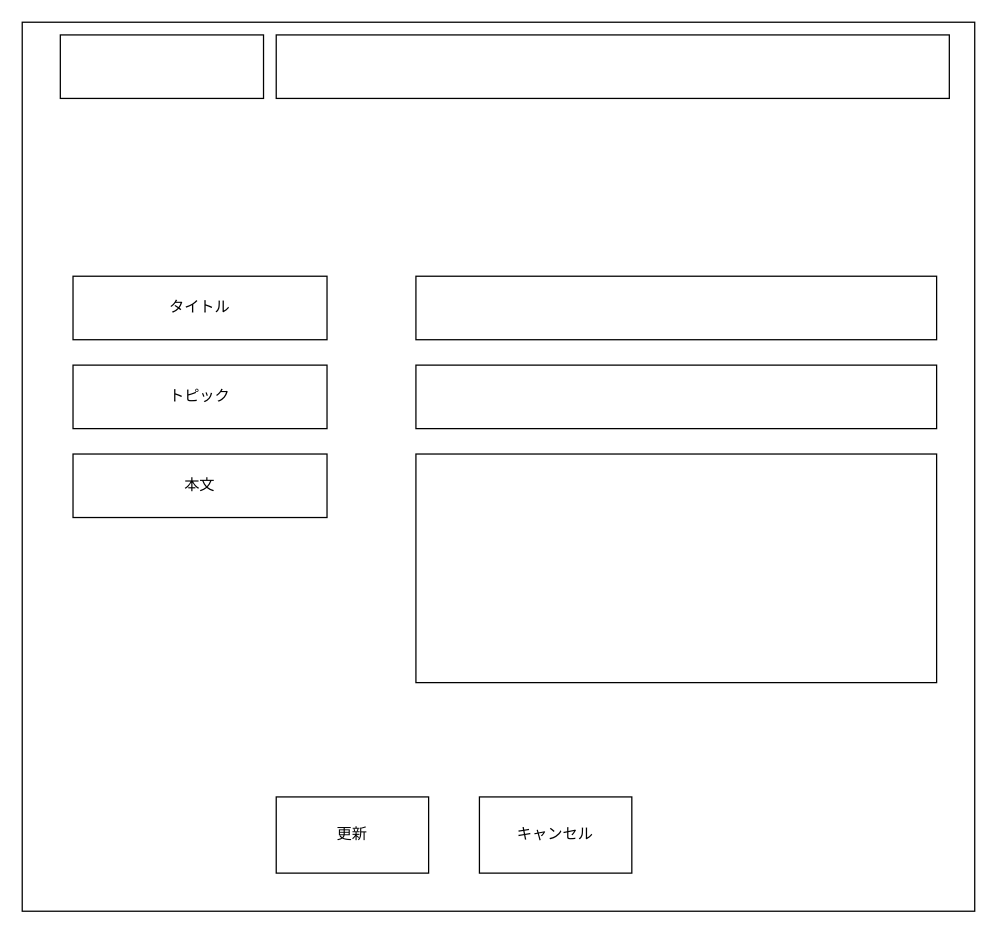
Image size: 997x933. Some labels were removed from this diagram. The shapes that lost their labels are listed below. From the top down, each one's centre as x and y in pixels, then its label:
At [161,66]: "つぶやき投稿アプリ".
At [612,66]: "ポストを編集".
